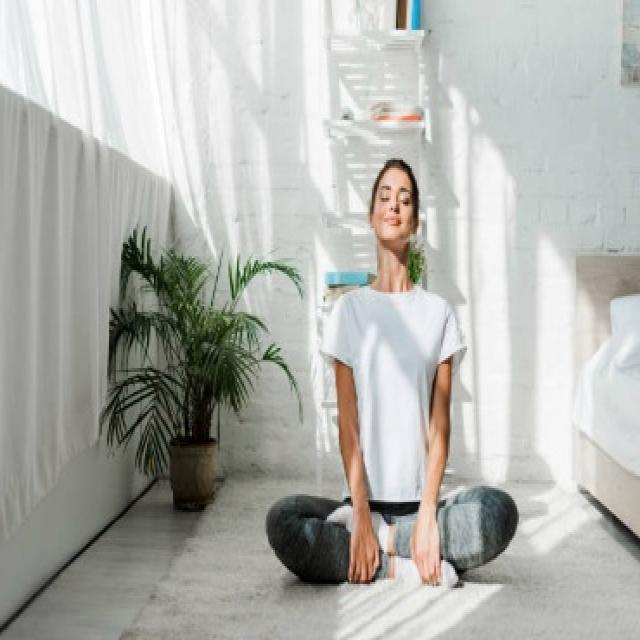adult: (270, 158, 516, 589)
